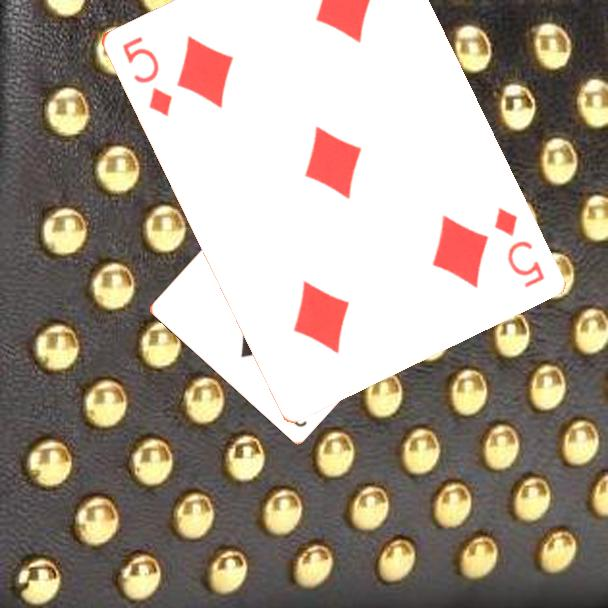d05: (490, 203, 547, 291), (118, 32, 175, 119)
